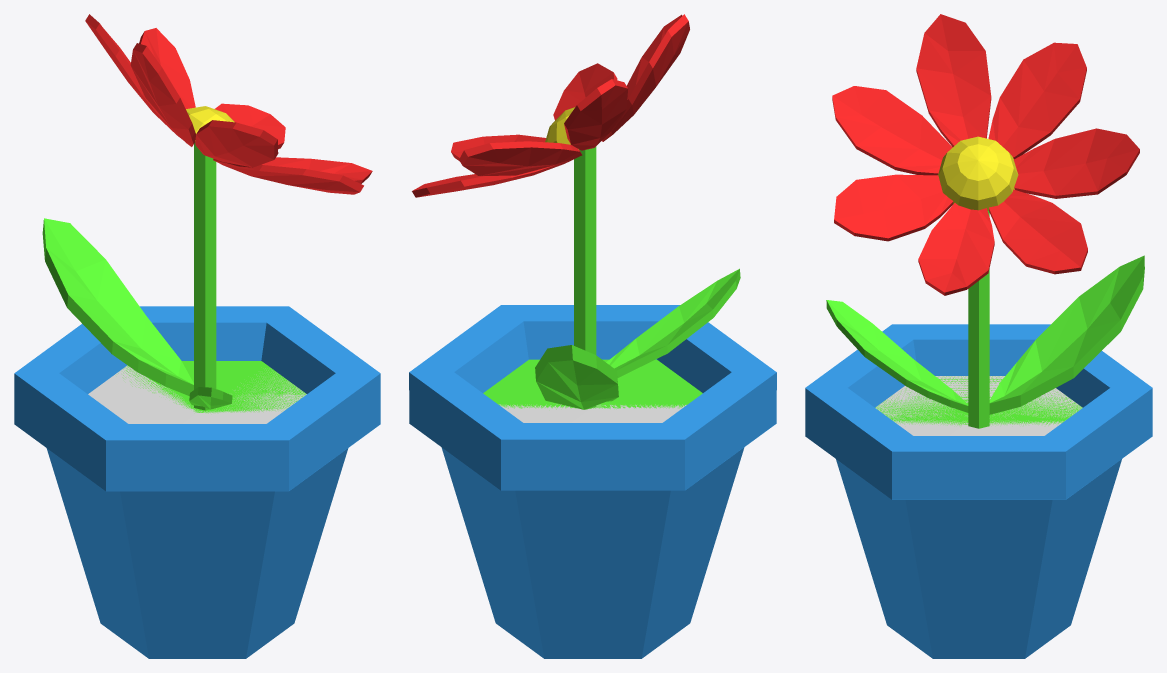
The model's file is virag.fbx.
The picture shows the model from 3 angles, left to right: view 1: azimuth 30°, elevation 25°; view 2: azimuth 150°, elevation 25°; view 3: azimuth 270°, elevation 25°; orthographic projection. The views are drawn at different scales.
Visible parts, largest first — view 1: Array_3, Lathe_2, Array, Lathe_1; view 2: Array_3, Lathe_2, Array, Lathe_1, Array_1; view 3: Array_3, Array, Lathe_2, Lathe_1, Sphere, Array_1.
Part boxes in pixels (box(x1,y1,x2,y2)): Array_3: box(14, 14, 380, 658); Lathe_2: box(14, 306, 380, 656); Array: box(89, 24, 372, 194); Lathe_1: box(88, 365, 306, 423); Array_3: box(409, 14, 776, 658); Lathe_2: box(409, 305, 776, 658); Array: box(413, 15, 687, 197); Lathe_1: box(499, 404, 686, 422); Array_1: box(636, 269, 740, 354); Array_3: box(805, 14, 1152, 658); Array: box(832, 14, 1138, 295); Lathe_2: box(807, 324, 1108, 658); Lathe_1: box(875, 376, 1082, 435); Sphere: box(937, 136, 1017, 210); Array_1: box(826, 301, 966, 404).
Size of the model in its own units: 693 by 1370 by 746.
